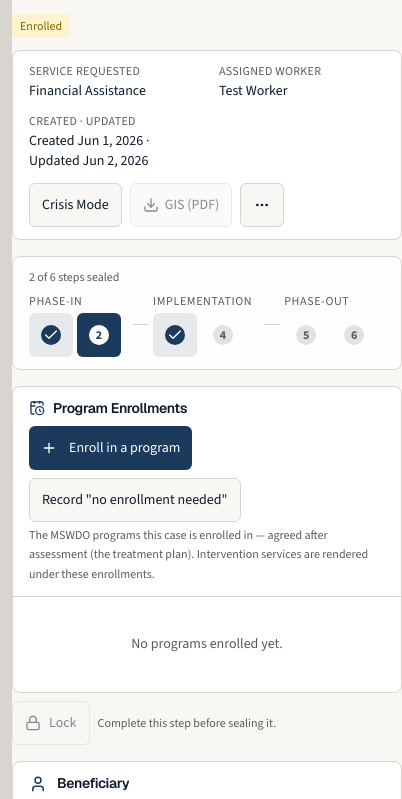
Test case: CaseViewPage — a sealed step › withholds the submit once step 0 is sealed
Click the button named "Assess & Interview" at (51, 334), box [29, 312, 73, 356]
(page scrolled)
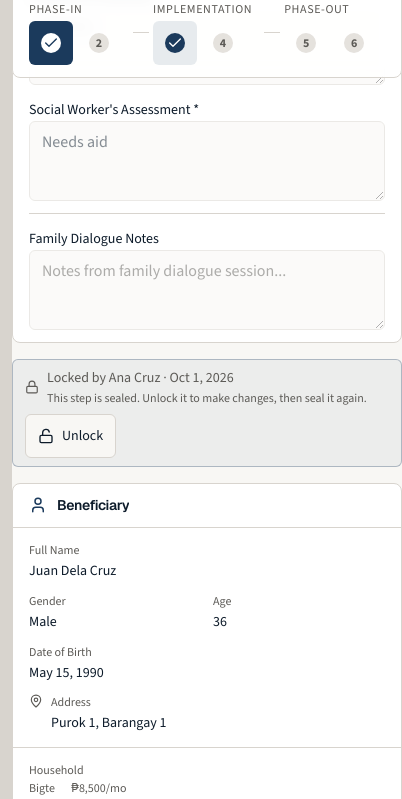
Now the text "Locked by Ana Cruz · Oct 1, 2026" is shown, box [47, 368, 234, 387]
